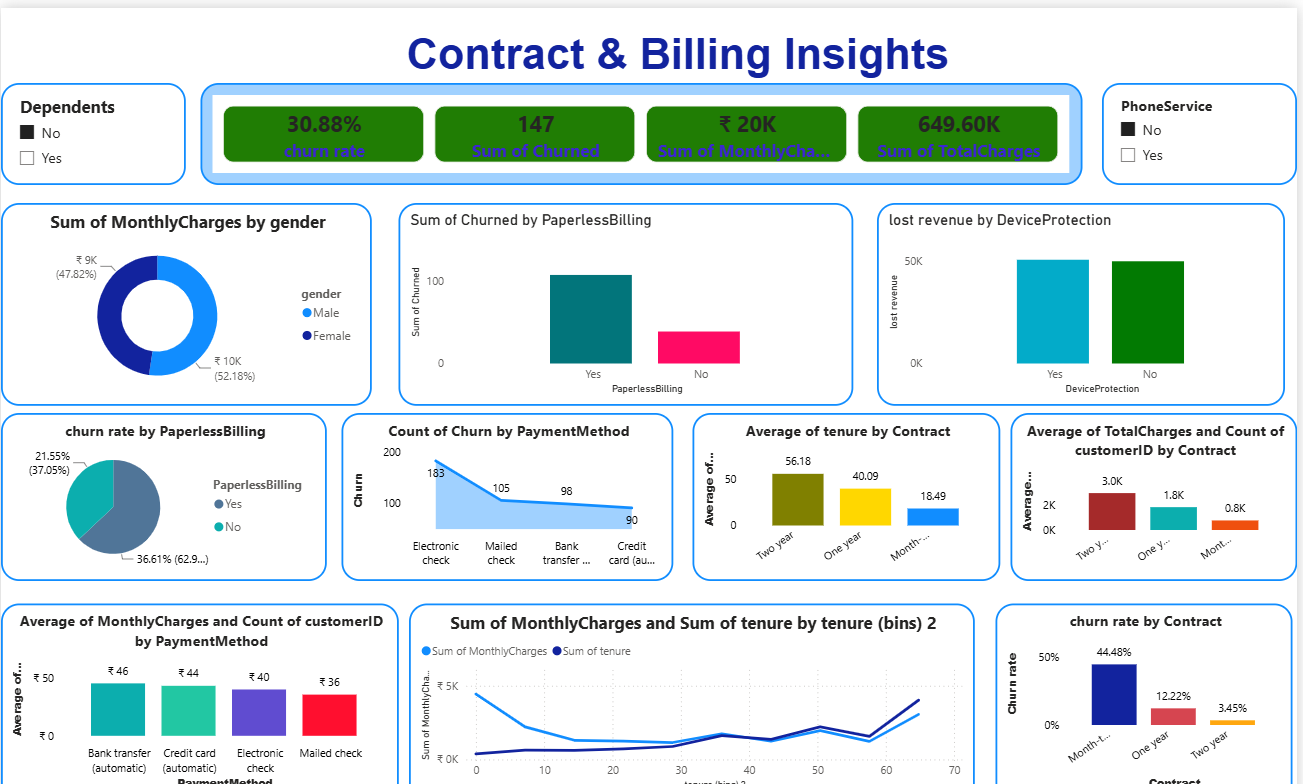

The page's visual inventory and layout, read from the dashboard file:
{"tool":"powerbi","page":{"name":"Page 3","canvas":[1440,900],"ordinal":2},"visuals":[{"type":"slicer","fields":{"Values":["WA_Fn-UseC_-Telco-Customer-Churn.Dependents"]},"box":[0,83.3,205,113.3],"z":0},{"type":"columnChart","fields":{"Category":["WA_Fn-UseC_-Telco-Customer-Churn.PaymentMethod"],"Y":["Avg(WA_Fn-UseC_-Telco-Customer-Churn.MonthlyCharges)"]},"box":[0,661.7,441.7,220],"z":1000},{"type":"columnChart","fields":{"Category":["WA_Fn-UseC_-Telco-Customer-Churn.Contract"],"Y":["Avg(WA_Fn-UseC_-Telco-Customer-Churn.TotalCharges)"]},"box":[1121.7,450,318.3,186.7],"z":2000},{"type":"columnChart","fields":{"Category":["WA_Fn-UseC_-Telco-Customer-Churn.Contract"],"Y":["WA_Fn-UseC_-Telco-Customer-Churn.churn rate"]},"box":[1105,661.7,330,220],"z":3000},{"type":"pieChart","fields":{"Category":["WA_Fn-UseC_-Telco-Customer-Churn.PaperlessBilling"],"Y":["WA_Fn-UseC_-Telco-Customer-Churn.churn rate"]},"box":[0,450,361.7,186.7],"z":4000},{"type":"columnChart","fields":{"Category":["WA_Fn-UseC_-Telco-Customer-Churn.Contract"],"Y":["Avg(WA_Fn-UseC_-Telco-Customer-Churn.tenure)"]},"box":[768.3,450,341.7,186.7],"z":5000},{"type":"areaChart","fields":{"Category":["WA_Fn-UseC_-Telco-Customer-Churn.PaymentMethod"],"Y":["CountNonNull(WA_Fn-UseC_-Telco-Customer-Churn.Churn)"]},"box":[378.3,450,368.3,186.7],"z":6000},{"type":"textbox","box":[222.3,0,1047.9,84],"z":9000},{"type":"cardVisual","fields":{"Data":["WA_Fn-UseC_-Telco-Customer-Churn.churn rate","Sum(WA_Fn-UseC_-Telco-Customer-Churn.Churned)","Sum(WA_Fn-UseC_-Telco-Customer-Churn.MonthlyCharges)","Sum(WA_Fn-UseC_-Telco-Customer-Churn.TotalCharges)"]},"box":[221.7,83.3,980,113.3],"z":10000},{"type":"slicer","fields":{"Values":["WA_Fn-UseC_-Telco-Customer-Churn.PhoneService"]},"box":[1223.3,83.3,216.7,113.3],"z":11000},{"type":"lineChart","fields":{"Category":["WA_Fn-UseC_-Telco-Customer-Churn.tenure (bins) 2"],"Y":["Sum(WA_Fn-UseC_-Telco-Customer-Churn.MonthlyCharges)","Sum(WA_Fn-UseC_-Telco-Customer-Churn.tenure)"]},"box":[453.3,661.7,628.3,220],"z":12000},{"type":"donutChart","fields":{"Y":["Sum(WA_Fn-UseC_-Telco-Customer-Churn.MonthlyCharges)"],"Category":["WA_Fn-UseC_-Telco-Customer-Churn.gender"]},"box":[0,216.7,411.7,225],"z":13000},{"type":"clusteredColumnChart","fields":{"Category":["WA_Fn-UseC_-Telco-Customer-Churn.PaperlessBilling"],"Y":["Sum(WA_Fn-UseC_-Telco-Customer-Churn.Churned)"]},"box":[441.7,216.7,505,225],"z":14000},{"type":"columnChart","fields":{"Category":["WA_Fn-UseC_-Telco-Customer-Churn.DeviceProtection"],"Y":["WA_Fn-UseC_-Telco-Customer-Churn.lost revenue"]},"box":[973.3,216.7,453.3,225],"z":15000}]}

Visuals, with their boxes on the page's 1440x900 design canvas (x1, y1, x2, y2). These are canvas units, not pixel positions in the 1303x784 screenshot, which may show the page scaled, cropped or inside an application window:
slicer - WA_Fn-UseC_-Telco-Customer-Churn.Dependents: locate(0, 83, 205, 197)
columnChart - WA_Fn-UseC_-Telco-Customer-Churn.PaymentMethod x Avg(WA_Fn-UseC_-Telco-Customer-Churn.MonthlyCharges): locate(0, 662, 442, 882)
columnChart - WA_Fn-UseC_-Telco-Customer-Churn.Contract x Avg(WA_Fn-UseC_-Telco-Customer-Churn.TotalCharges): locate(1122, 450, 1440, 637)
columnChart - WA_Fn-UseC_-Telco-Customer-Churn.Contract x WA_Fn-UseC_-Telco-Customer-Churn.churn rate: locate(1105, 662, 1435, 882)
pieChart - WA_Fn-UseC_-Telco-Customer-Churn.PaperlessBilling x WA_Fn-UseC_-Telco-Customer-Churn.churn rate: locate(0, 450, 362, 637)
columnChart - WA_Fn-UseC_-Telco-Customer-Churn.Contract x Avg(WA_Fn-UseC_-Telco-Customer-Churn.tenure): locate(768, 450, 1110, 637)
areaChart - WA_Fn-UseC_-Telco-Customer-Churn.PaymentMethod x CountNonNull(WA_Fn-UseC_-Telco-Customer-Churn.Churn): locate(378, 450, 747, 637)
textbox: locate(222, 0, 1270, 84)
cardVisual - WA_Fn-UseC_-Telco-Customer-Churn.churn rate x Sum(WA_Fn-UseC_-Telco-Customer-Churn.Churned): locate(222, 83, 1202, 197)
slicer - WA_Fn-UseC_-Telco-Customer-Churn.PhoneService: locate(1223, 83, 1440, 197)
lineChart - WA_Fn-UseC_-Telco-Customer-Churn.tenure (bins) 2 x Sum(WA_Fn-UseC_-Telco-Customer-Churn.MonthlyCharges): locate(453, 662, 1082, 882)
donutChart - Sum(WA_Fn-UseC_-Telco-Customer-Churn.MonthlyCharges) x WA_Fn-UseC_-Telco-Customer-Churn.gender: locate(0, 217, 412, 442)
clusteredColumnChart - WA_Fn-UseC_-Telco-Customer-Churn.PaperlessBilling x Sum(WA_Fn-UseC_-Telco-Customer-Churn.Churned): locate(442, 217, 947, 442)
columnChart - WA_Fn-UseC_-Telco-Customer-Churn.DeviceProtection x WA_Fn-UseC_-Telco-Customer-Churn.lost revenue: locate(973, 217, 1427, 442)
